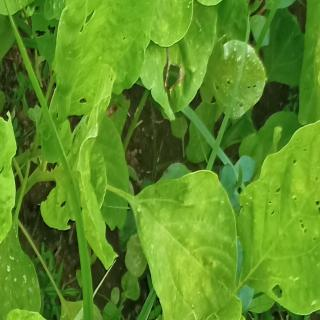karat_putih: (132, 164, 248, 320), (210, 30, 269, 127)
virus_keriting: (0, 86, 21, 276)
